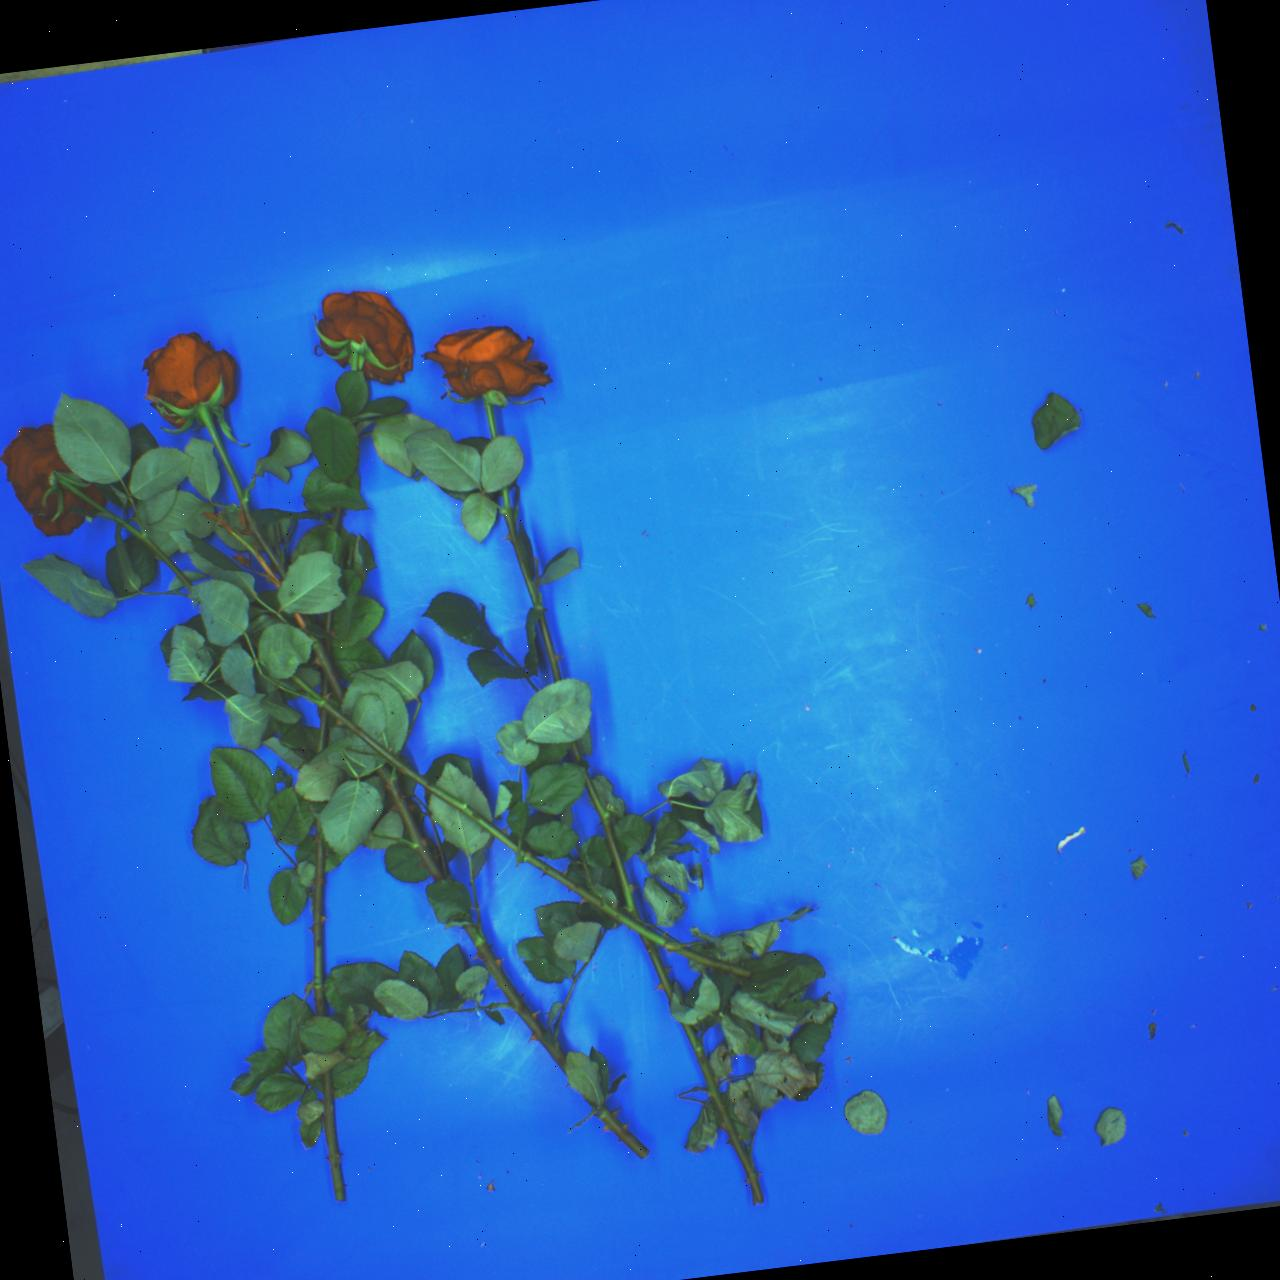Stem: (287, 673, 523, 857), (513, 850, 753, 989), (459, 919, 577, 1082), (192, 403, 290, 584), (56, 471, 202, 592), (676, 1021, 769, 1206), (583, 770, 642, 926), (375, 764, 448, 885), (497, 488, 544, 612), (319, 1069, 346, 1203), (594, 1103, 652, 1162), (639, 931, 679, 1003), (313, 819, 326, 1015), (309, 639, 348, 700), (538, 615, 563, 683), (318, 709, 331, 754), (485, 400, 498, 440), (568, 742, 584, 764), (331, 509, 342, 532), (294, 610, 309, 627), (322, 670, 331, 699), (326, 610, 334, 635), (322, 639, 332, 655), (350, 352, 359, 370)
flower: (420, 314, 554, 420), (304, 280, 428, 390), (0, 416, 96, 547), (141, 328, 241, 413)
